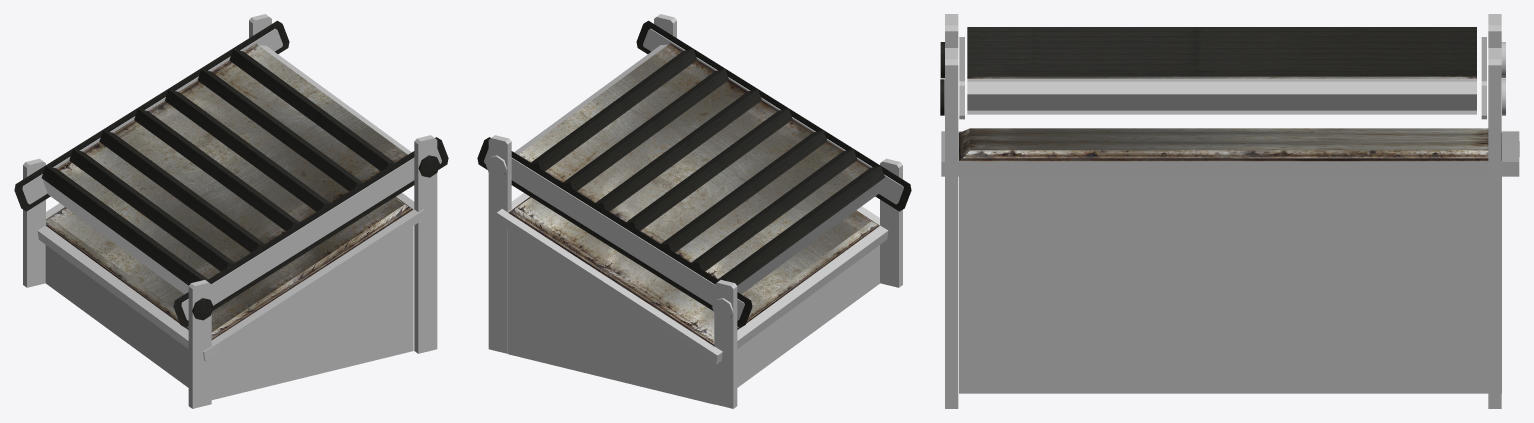
Rendered from SM_Machine_03.FBX.
3 renders of one model, left to right at view 1: azimuth 30°, elevation 25°; view 2: azimuth 150°, elevation 25°; view 3: azimuth 270°, elevation 25°, orthographic. The views are drawn at different scales.
Parts seen in each view (by area): view 1: SM_Machine_03; view 2: SM_Machine_03; view 3: SM_Machine_03.
Boxes of the visible parts, x1,y1,x2,y2 form: SM_Machine_03: (14,14,448,408); SM_Machine_03: (477,14,911,408); SM_Machine_03: (940,14,1519,408).
Size of the model in its own units: 1.88 by 1.39 by 2.1.
